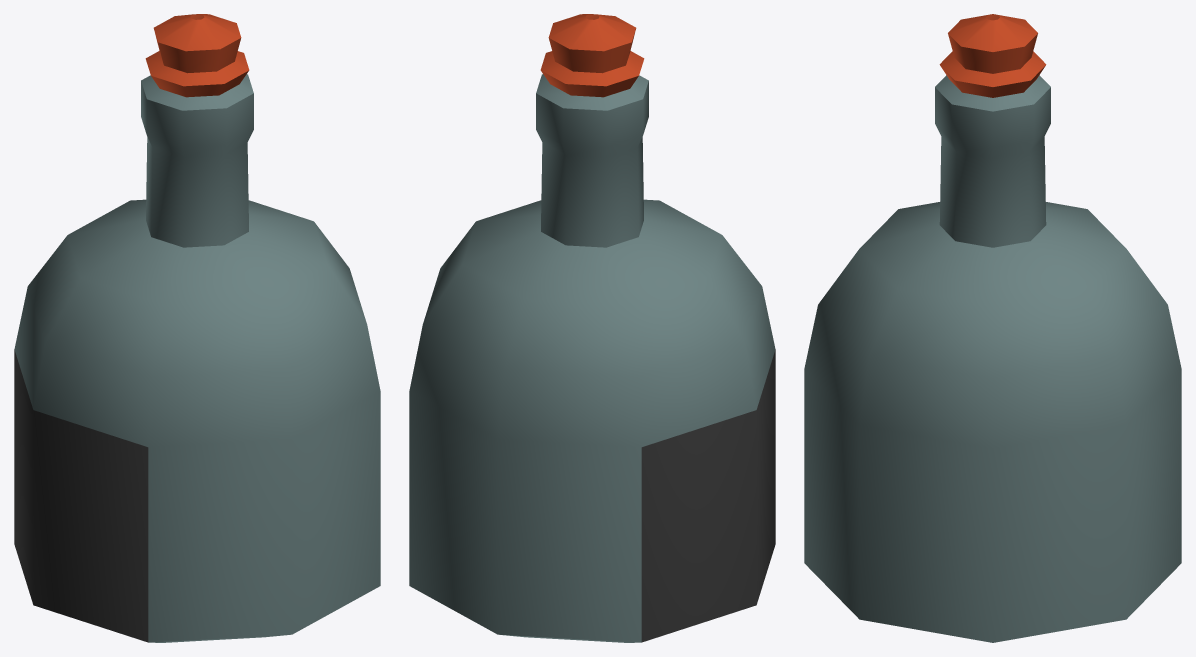
File: ME_SE_Bottle01.fbx
3 renders of one model, left to right at view 1: azimuth 30°, elevation 25°; view 2: azimuth 150°, elevation 25°; view 3: azimuth 270°, elevation 25°, orthographic.
Parts seen in each view (by area): view 1: ME_SE_Bottle01; view 2: ME_SE_Bottle01; view 3: ME_SE_Bottle01.
Boxes of the visible parts, box(x1,y1,x2,y2) form: ME_SE_Bottle01: box(14, 14, 380, 642); ME_SE_Bottle01: box(409, 14, 775, 642); ME_SE_Bottle01: box(804, 14, 1181, 642).
Bounding box in the file's own units: 2782 × 4629 × 2782.
